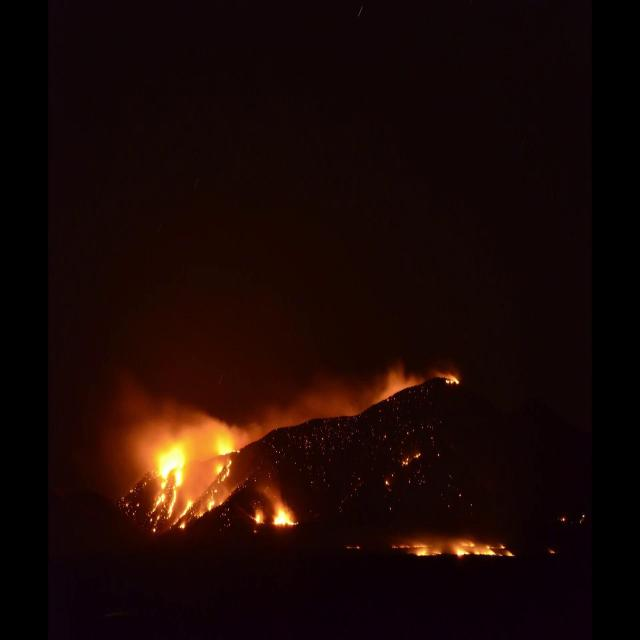Fire: (149, 446, 180, 516), (453, 540, 512, 556), (274, 505, 298, 528), (391, 538, 433, 549), (399, 450, 422, 467), (216, 460, 231, 480), (217, 445, 240, 455), (181, 498, 193, 517), (445, 372, 458, 387), (414, 549, 440, 556), (255, 511, 262, 525), (208, 500, 214, 510), (179, 522, 185, 530)
